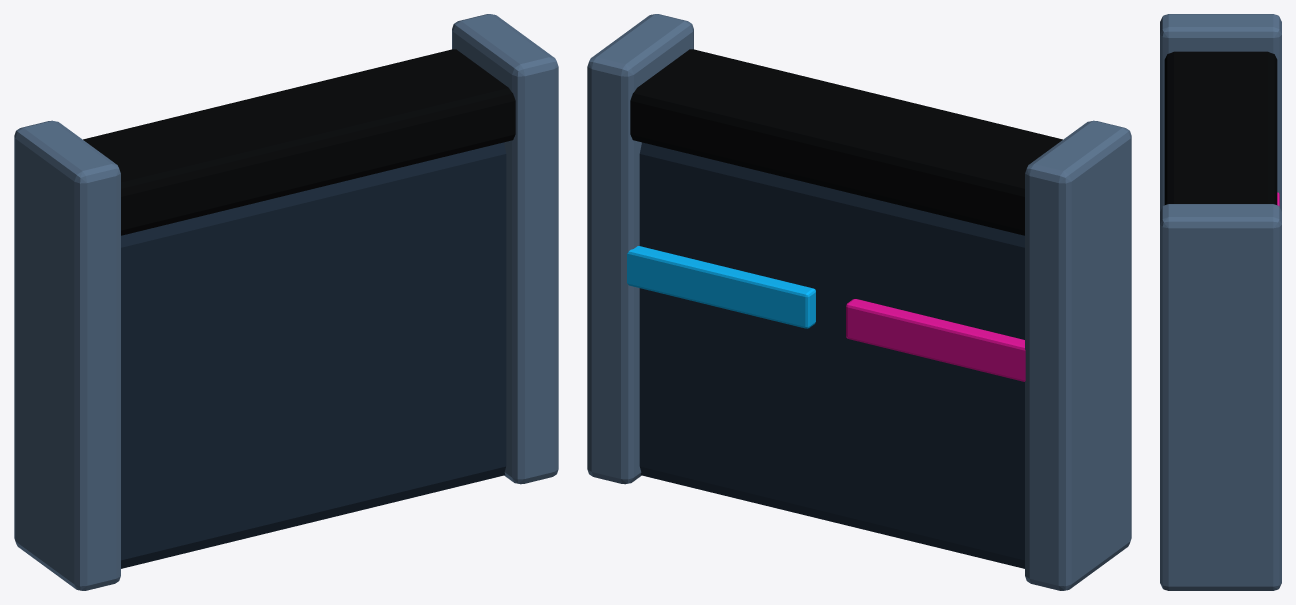
The model's file is arena_divider.obj.
3 views of the same model, side by side, from view 1: azimuth 30°, elevation 25°; view 2: azimuth 150°, elevation 25°; view 3: azimuth 270°, elevation 25° (orthographic). The views are drawn at different scales.
Visible parts, largest first — view 1: arena_wall_core_M_gunmetal, arena_wall_pillar_r_M_steel, arena_wall_cap_M_black, arena_wall_pillar_l_M_steel; view 2: arena_wall_core_M_gunmetal, arena_wall_pillar_r_M_steel, arena_wall_cap_M_black, arena_wall_pillar_l_M_steel, arena_wall_rail_cyan_M_cyan, arena_wall_rail_magenta_M_magenta; view 3: arena_wall_pillar_l_M_steel, arena_wall_cap_M_black, arena_wall_pillar_r_M_steel.
Part boxes in pixels (x1,y1,x2,y2): arena_wall_core_M_gunmetal: (121, 142, 506, 568); arena_wall_pillar_r_M_steel: (14, 120, 120, 590); arena_wall_cap_M_black: (83, 49, 515, 235); arena_wall_pillar_l_M_steel: (452, 14, 558, 484); arena_wall_core_M_gunmetal: (639, 142, 1024, 568); arena_wall_pillar_r_M_steel: (1025, 120, 1131, 590); arena_wall_cap_M_black: (630, 49, 1062, 235); arena_wall_pillar_l_M_steel: (587, 14, 693, 484); arena_wall_rail_cyan_M_cyan: (627, 246, 815, 328); arena_wall_rail_magenta_M_magenta: (846, 299, 1025, 381); arena_wall_pillar_l_M_steel: (1160, 204, 1281, 590); arena_wall_cap_M_black: (1164, 51, 1277, 204); arena_wall_pillar_r_M_steel: (1160, 14, 1281, 211).
Size of the model in its own units: 1.06 by 0.88 by 0.26.
